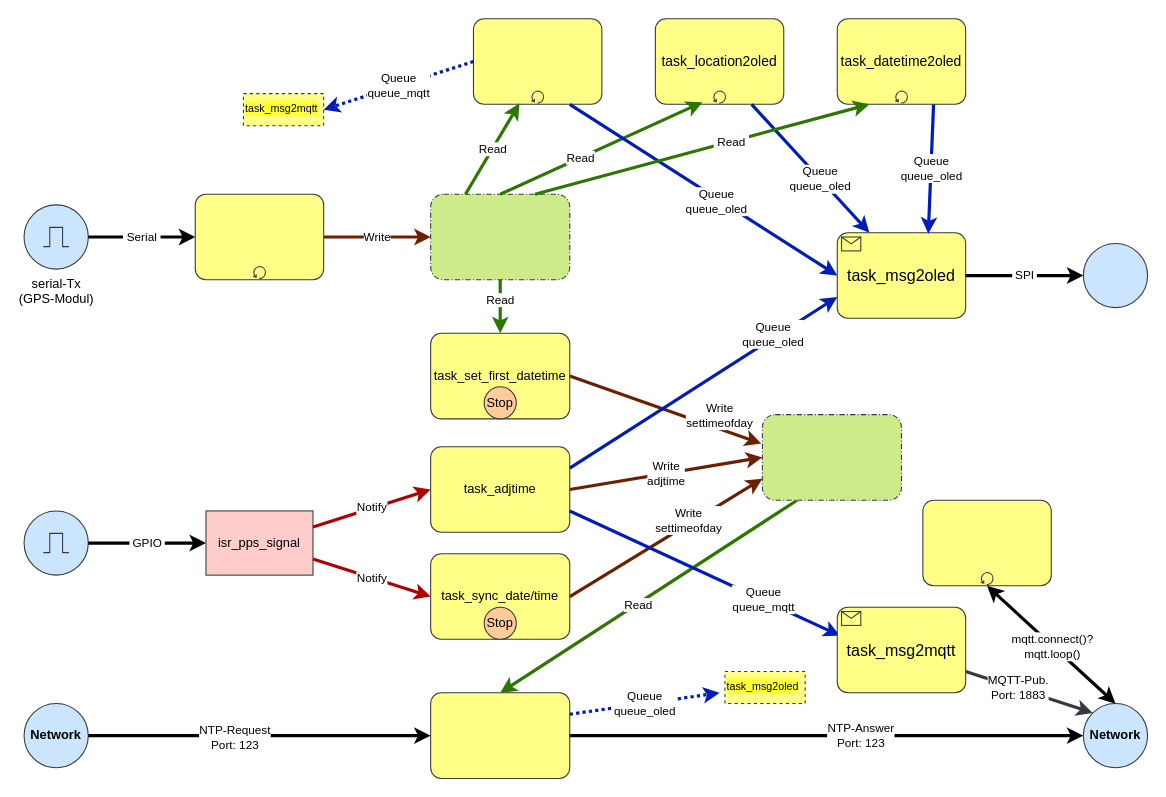
Image size: 1166x797. Some labels were removed from this diagram. The centre of each missing label's shape, as x and y in pixels:
"Data-Object gps" goes at (x=500, y=236).
"Date/Time (System)" goes at (x=831, y=457).
"OLED" goes at (x=1115, y=275).
"PPS-Signal (GPS-Modul)" goes at (x=55, y=542).
"task_gps_read" goes at (x=259, y=236).
"task_mqtt_control" goes at (x=986, y=542).
"task_ntpserver" goes at (x=500, y=735).
"task_satellites2oled" goes at (x=537, y=61).
